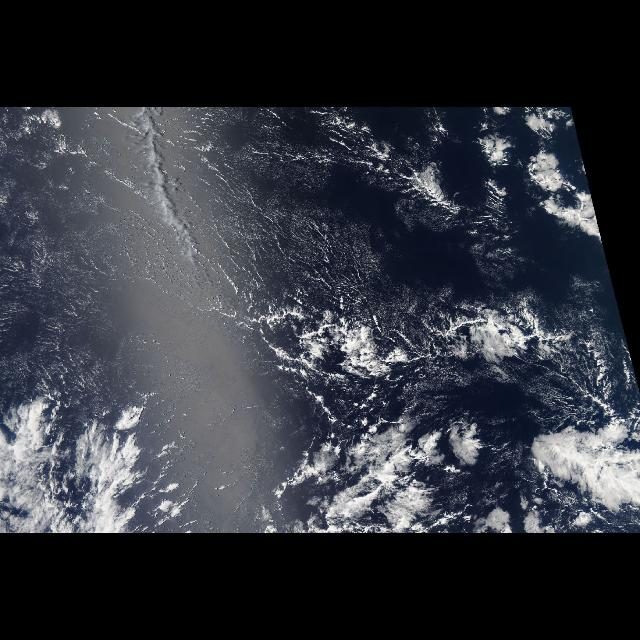Fish: (231, 274, 631, 534)
Flower: (362, 108, 604, 256)
Sugar: (0, 107, 388, 409)
